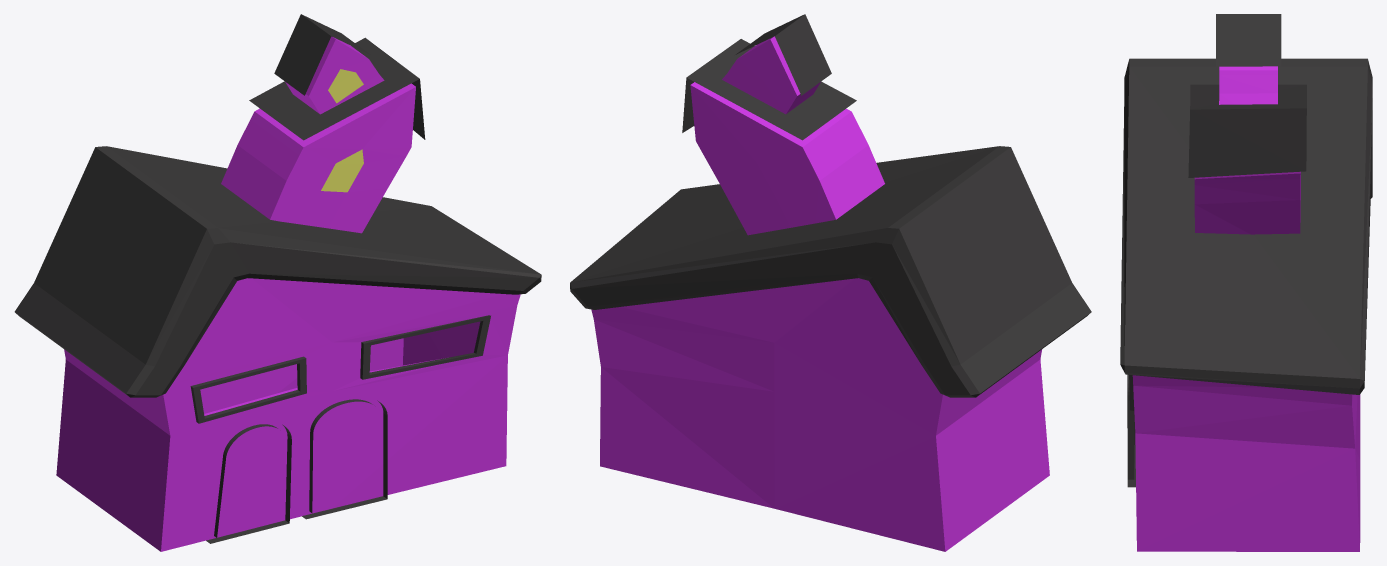
File: HouseP.glb
3 views of the same model, side by side, from view 1: azimuth 30°, elevation 25°; view 2: azimuth 150°, elevation 25°; view 3: azimuth 270°, elevation 25° (orthographic). The views are drawn at different scales.
Parts seen in each view (by area): view 1: Cube.004; view 2: Cube.004; view 3: Cube.004.
Boxes of the visible parts, x1,y1,x2,y2 form: Cube.004: (14, 14, 541, 551); Cube.004: (570, 14, 1091, 551); Cube.004: (1120, 14, 1372, 551).
Bounding box in the file's own units: 15.65 × 15.83 × 7.75.
